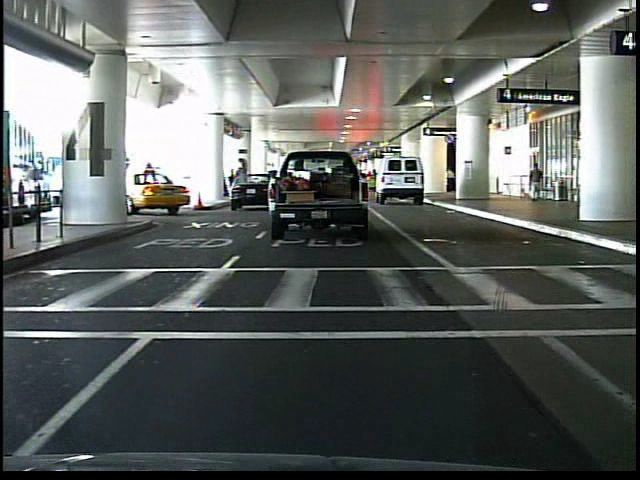person: (527, 158, 547, 208), (443, 165, 456, 198)
